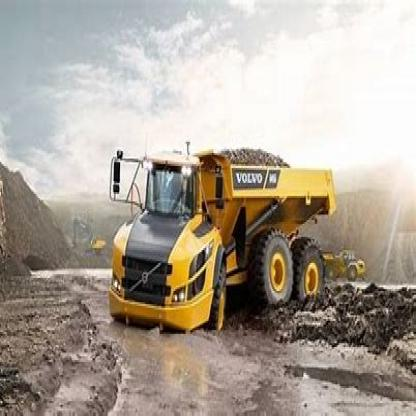dump_truck: (100, 123, 335, 332)
